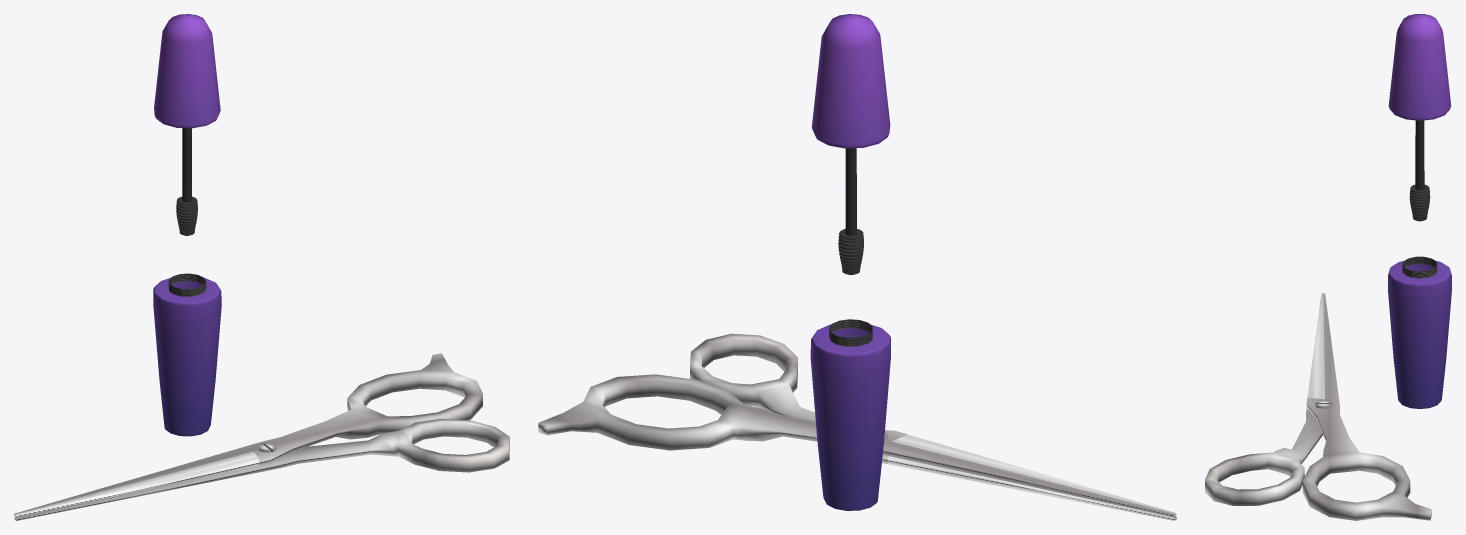
File: Scissors_Mascara_1_01.fbx
The picture shows the model from 3 angles, left to right: view 1: azimuth 30°, elevation 25°; view 2: azimuth 150°, elevation 25°; view 3: azimuth 270°, elevation 25°; orthographic projection. The views are drawn at different scales.
Parts seen in each view (by area): view 1: point1, Bottom, Top, Siccor2; view 2: point1, Bottom, Top, Siccor2; view 3: point1, Bottom, Top, Siccor2.
Part boxes in pixels (x1,y1,x2,y2): point1: (14, 353, 482, 517); Bottom: (153, 273, 221, 436); Top: (154, 14, 220, 235); Siccor2: (14, 419, 509, 520); point1: (538, 374, 1176, 516); Bottom: (810, 319, 890, 510); Top: (811, 14, 890, 274); Siccor2: (690, 333, 1176, 520); point1: (1302, 293, 1431, 520); Bottom: (1388, 256, 1451, 408); Top: (1388, 14, 1451, 221); Siccor2: (1205, 298, 1322, 505).
Size of the model in its own units: 42.55 by 34.93 by 20.1.
1 material, 1 textured.
